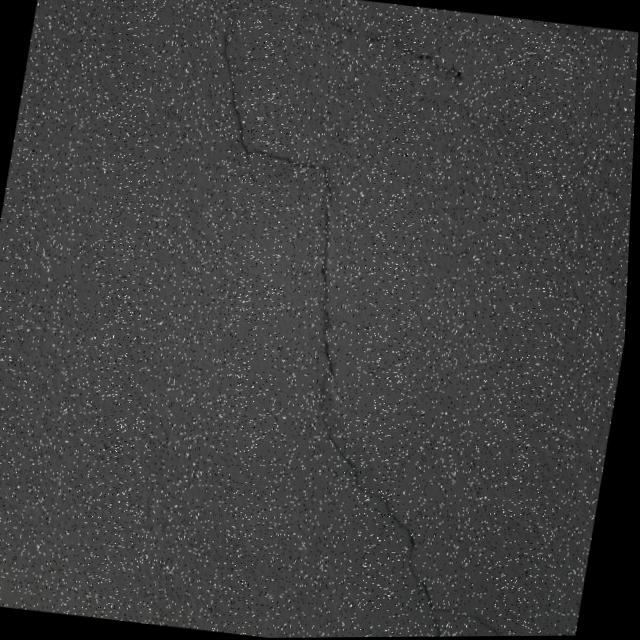Crack: (124, 0, 619, 639)
